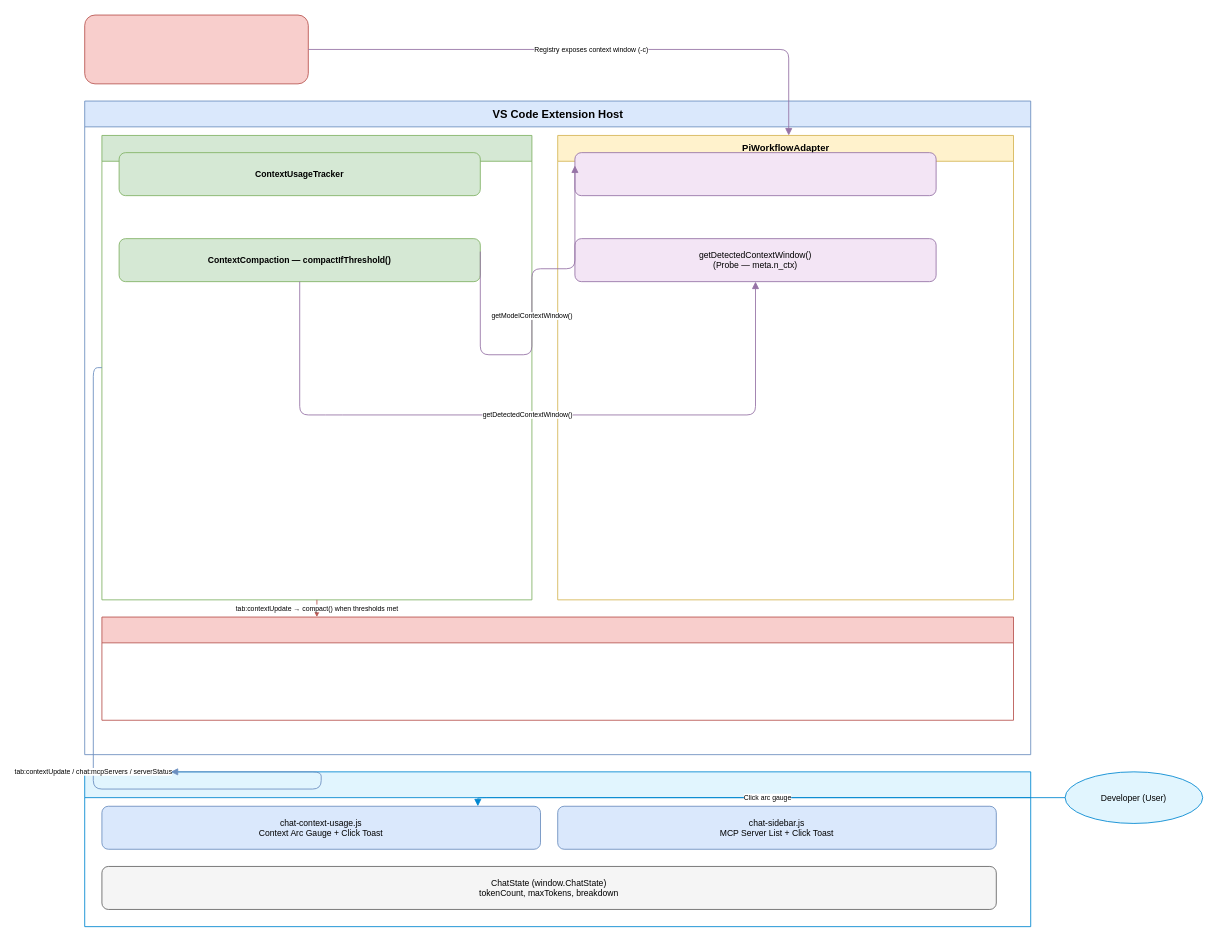
Some shapes in this 1218 by 942 pixel diagram are drawn without their labels. Here are the shapes that lost their labels. From the top down, the box of each, then its label:
(84, 14, 308, 84): llama-server / LLM Gateway
(574, 152, 936, 196): getModelContextWindow() (Registry — llama-server -c)
(101, 135, 532, 600): ChatPanelProvider
(101, 616, 1014, 720): SessionCompactor (SA4E-339) — compact()
(84, 771, 1031, 927): Webview (Chat UI)
